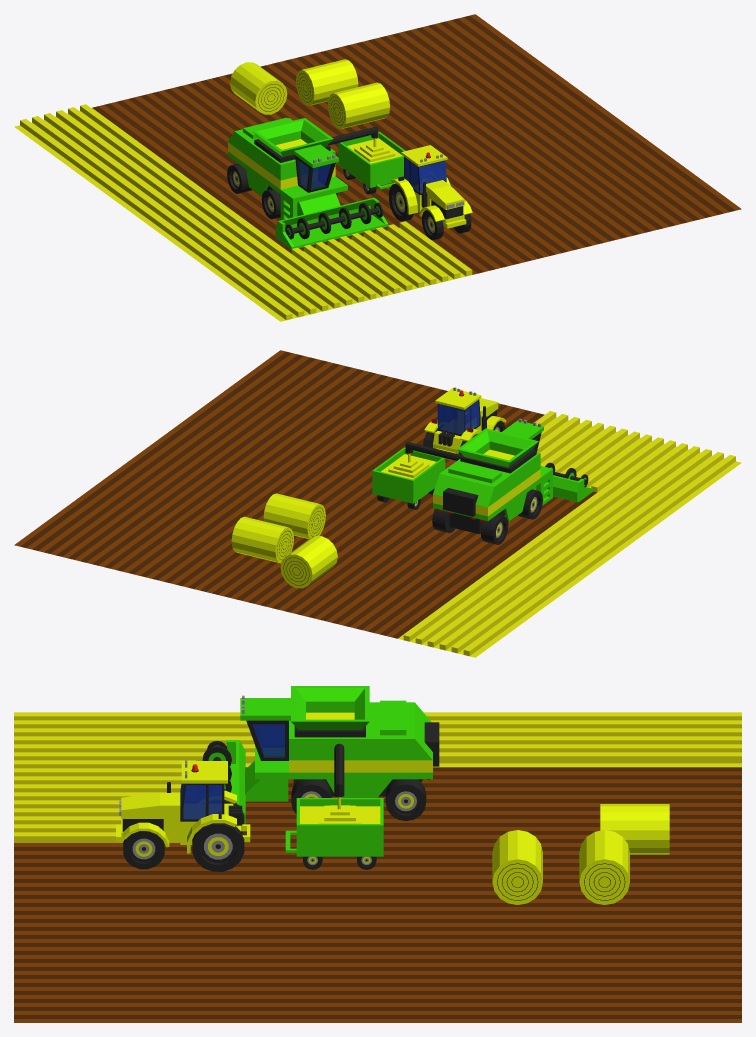
Rendered from faram.fbx.
3 renders of one model, top to bottom at view 1: azimuth 30°, elevation 25°; view 2: azimuth 150°, elevation 25°; view 3: azimuth 270°, elevation 25°, orthographic. The views are drawn at different scales.
Visible parts, largest first — view 1: Plane001, Cylinder006, Tractor01, Plane005, Cylinder008, Cylinder010, Cylinder009; view 2: Plane001, Cylinder006, Tractor01, Plane005, Cylinder009, Cylinder010, Cylinder008; view 3: Plane001, Cylinder006, Tractor01, Plane005, Cylinder008, Cylinder009, Cylinder010, Line001.
Boxes of the visible parts, x1=… form: Plane001: x1=14, y1=14, x2=741, y2=321; Cylinder006: x1=227, y1=117, x2=388, y2=249; Tractor01: x1=389, y1=145, x2=472, y2=239; Plane005: x1=338, y1=132, x2=405, y2=194; Cylinder008: x1=327, y1=82, x2=390, y2=129; Cylinder010: x1=230, y1=62, x2=287, y2=114; Cylinder009: x1=296, y1=59, x2=358, y2=105; Plane001: x1=14, y1=350, x2=741, y2=657; Cylinder006: x1=432, y1=420, x2=593, y2=544; Tractor01: x1=423, y1=387, x2=506, y2=460; Plane005: x1=372, y1=447, x2=445, y2=509; Cylinder009: x1=231, y1=516, x2=293, y2=563; Cylinder010: x1=280, y1=536, x2=337, y2=588; Cylinder008: x1=263, y1=493, x2=325, y2=538; Plane001: x1=14, y1=712, x2=741, y2=1022; Cylinder006: x1=202, y1=686, x2=439, y2=824; Tractor01: x1=116, y1=760, x2=250, y2=871; Plane005: x1=285, y1=798, x2=383, y2=869; Cylinder008: x1=492, y1=830, x2=542, y2=904; Cylinder009: x1=579, y1=830, x2=629, y2=904; Cylinder010: x1=600, y1=804, x2=669, y2=854; Line001: x1=334, y1=743, x2=344, y2=797.
Bounding box in the file's own units: 629 × 93.21 × 629.
